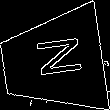N_W: (24, 38, 82, 85)
